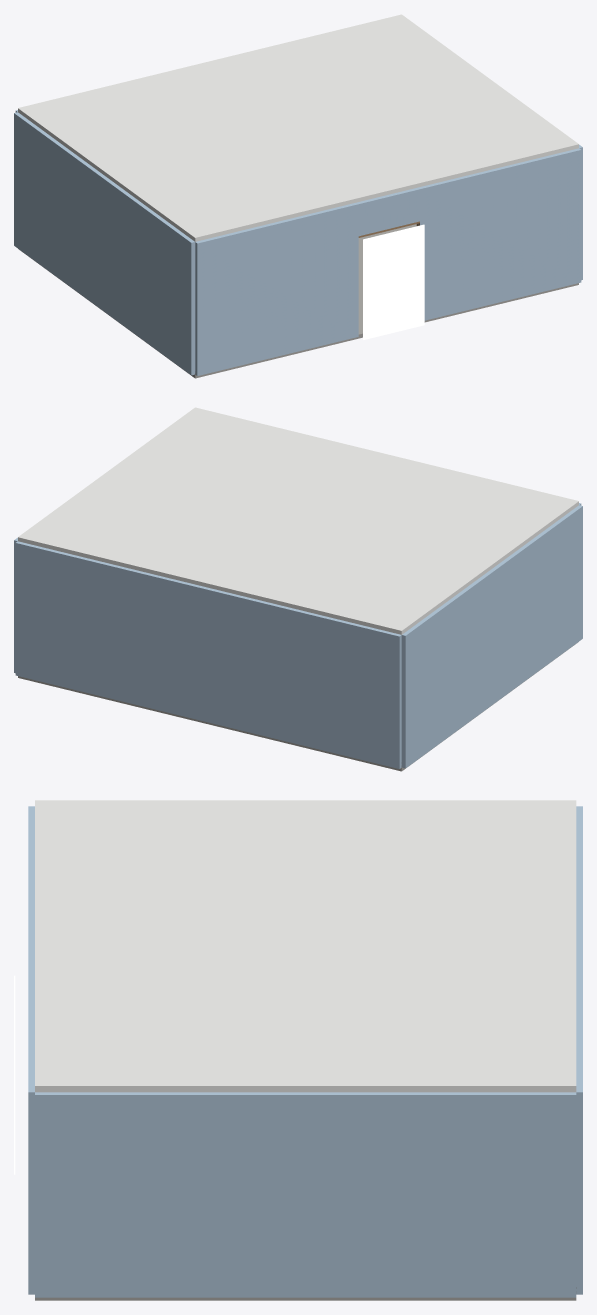
The model's file is room_tea.glb.
3 views of the same model, one above another, from view 1: azimuth 30°, elevation 25°; view 2: azimuth 150°, elevation 25°; view 3: azimuth 270°, elevation 25° (orthographic). The views are drawn at different scales.
Parts seen in each view (by area): view 1: Room; view 2: Room; view 3: Room.
Part boxes in pixels (x1=…): Room: x1=14, y1=14, x2=582, y2=378; Room: x1=14, y1=407, x2=582, y2=771; Room: x1=14, y1=800, x2=582, y2=1300.
Bounding box in the file's own units: 10.2 × 3.5 × 8.41.
